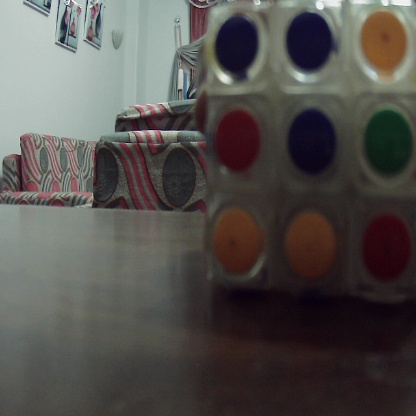Rubix Cube: (204, 1, 416, 299)
